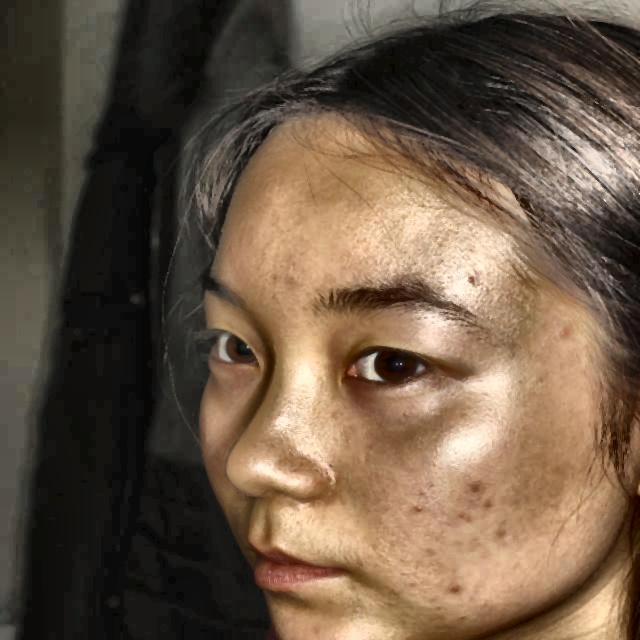comedone: (558, 320, 592, 350), (445, 577, 471, 598)
